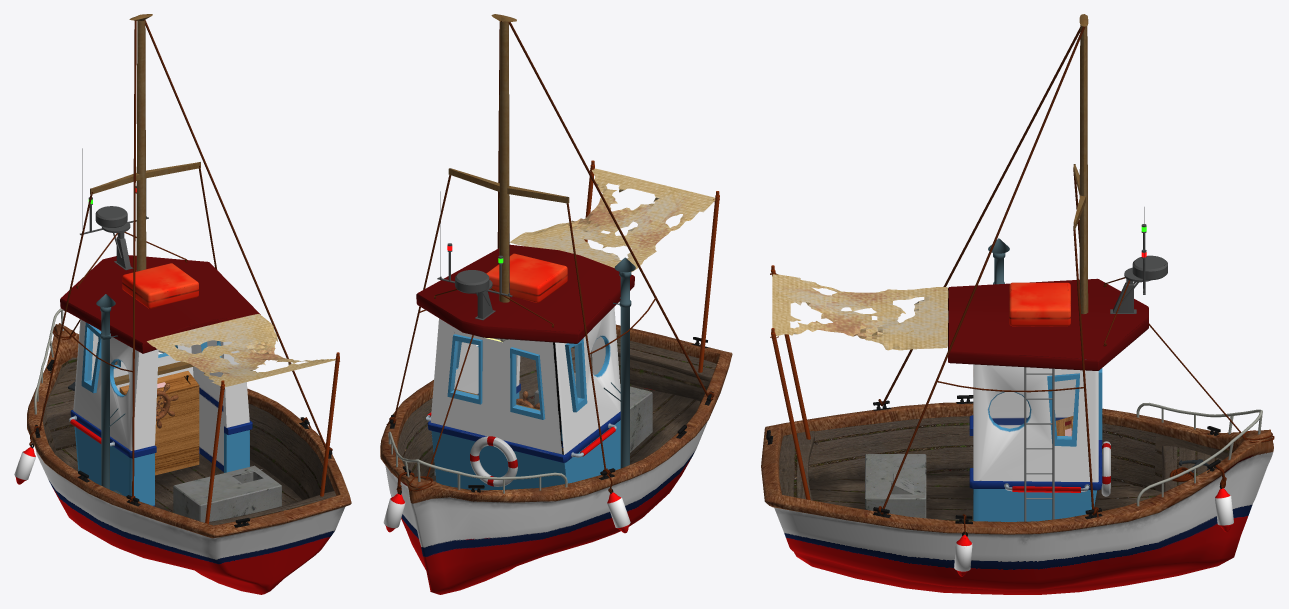
File: boat.glb
The picture shows the model from 3 angles, left to right: view 1: azimuth 30°, elevation 25°; view 2: azimuth 150°, elevation 25°; view 3: azimuth 270°, elevation 25°; orthographic projection. The views are drawn at different scales.
Visible parts, largest first — view 1: Material-CABINA, Material-BARCA-ESTERNO, Material-BARCA_INTERNO, Material-TENDA, Material-MOTORE, Material-CORDE-scure, Material-ALBERO-MAIN, Material-SALVAGENTE-TETTO, Material-PIPE, Material-ANTENNA, Material-TENDA-BASTONI, Material-BITTE (+3 smaller); view 2: Material-CABINA, Material-BARCA-ESTERNO, Material-BARCA_INTERNO, Material-TENDA, Material-CORDE-scure, Material-ALBERO-MAIN, Material-SALVAGENTE-TETTO, Material-PIPE, Material-ANTENNA, Material-MOTORE, Material-TENDA-BASTONI, Material-PARABORDI (+3 smaller); view 3: Material-BARCA-ESTERNO, Material-CABINA, Material-BARCA_INTERNO, Material-TENDA, Material-CORDE-scure, Material-MOTORE, Material-SALVAGENTE-TETTO, Material-ALBERO-MAIN, Material-ANTENNA, Material-TENDA-BASTONI, Material-RINGHIERA, Material-PARABORDI (+2 smaller).
Part boxes in pixels (x1,y1,x2,y2): Material-CABINA: (60,255,260,506); Material-BARCA-ESTERNO: (27,323,351,594); Material-BARCA_INTERNO: (43,357,336,525); Material-TENDA: (147,314,335,386); Material-MOTORE: (173,465,281,522); Material-CORDE-scure: (29,20,332,502); Material-ALBERO-MAIN: (90,14,200,385); Material-SALVAGENTE-TETTO: (122,263,198,308); Material-PIPE: (96,294,125,494); Material-ANTENNA: (80,148,148,270); Material-TENDA-BASTONI: (205,352,339,523); Material-BITTE: (30,359,332,527); Material-CABINA: (416,244,634,490); Material-BARCA-ESTERNO: (380,324,732,594); Material-BARCA_INTERNO: (397,338,716,481); Material-TENDA: (509,168,715,272); Material-CORDE-scure: (386,21,714,493); Material-ALBERO-MAIN: (448,14,569,410); Material-SALVAGENTE-TETTO: (486,253,567,302); Material-PIPE: (603,257,635,468); Material-ANTENNA: (437,191,512,320); Material-MOTORE: (534,373,652,452); Material-TENDA-BASTONI: (584,160,719,372); Material-PARABORDI: (383,492,630,533); Material-BARCA-ESTERNO: (761,402,1273,594); Material-CABINA: (948,278,1148,521); Material-BARCA_INTERNO: (779,416,1229,520); Material-TENDA: (772,274,948,350); Material-CORDE-scure: (878,26,1274,534); Material-MOTORE: (865,454,926,518); Material-SALVAGENTE-TETTO: (1009,282,1070,326); Material-ALBERO-MAIN: (1073,14,1088,314); Material-ANTENNA: (1110,207,1167,313); Material-TENDA-BASTONI: (771,265,810,499); Material-RINGHIERA: (1136,402,1262,506); Material-PARABORDI: (954,488,1233,576).
Bounding box in the file's own units: 4.27 × 8.55 × 6.93.
28 materials, 9 textured.
